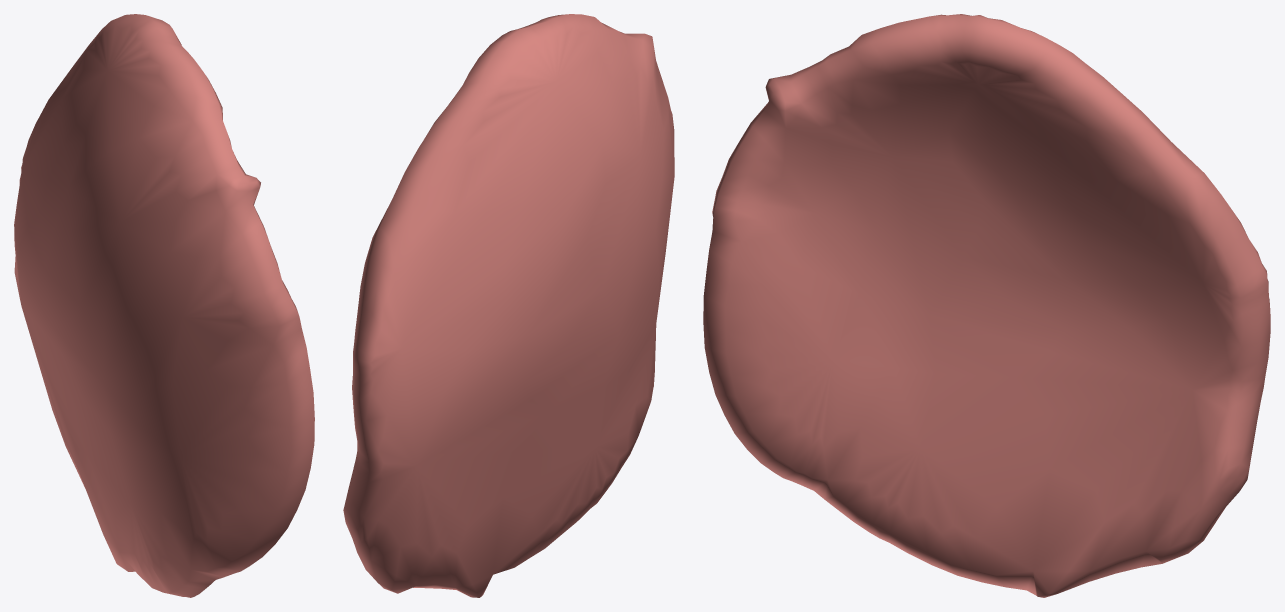
The picture shows the model from 3 angles, left to right: view 1: azimuth 30°, elevation 25°; view 2: azimuth 150°, elevation 25°; view 3: azimuth 270°, elevation 25°; orthographic projection. The views are drawn at different scales.
Parts seen in each view (by area): view 1: ZA_15653cee9fd51e64; view 2: ZA_15653cee9fd51e64; view 3: ZA_15653cee9fd51e64.
Part boxes in pixels (x1,y1,x2,y2): ZA_15653cee9fd51e64: (14, 14, 314, 597); ZA_15653cee9fd51e64: (343, 14, 674, 597); ZA_15653cee9fd51e64: (703, 14, 1270, 597).
Size of the model in its own units: 0.00151 by 0.00548 by 0.00495.
